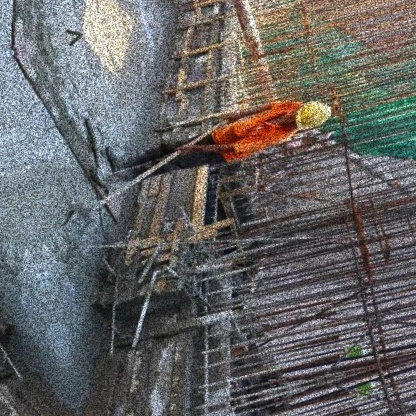yellow: (289, 94, 339, 135)
